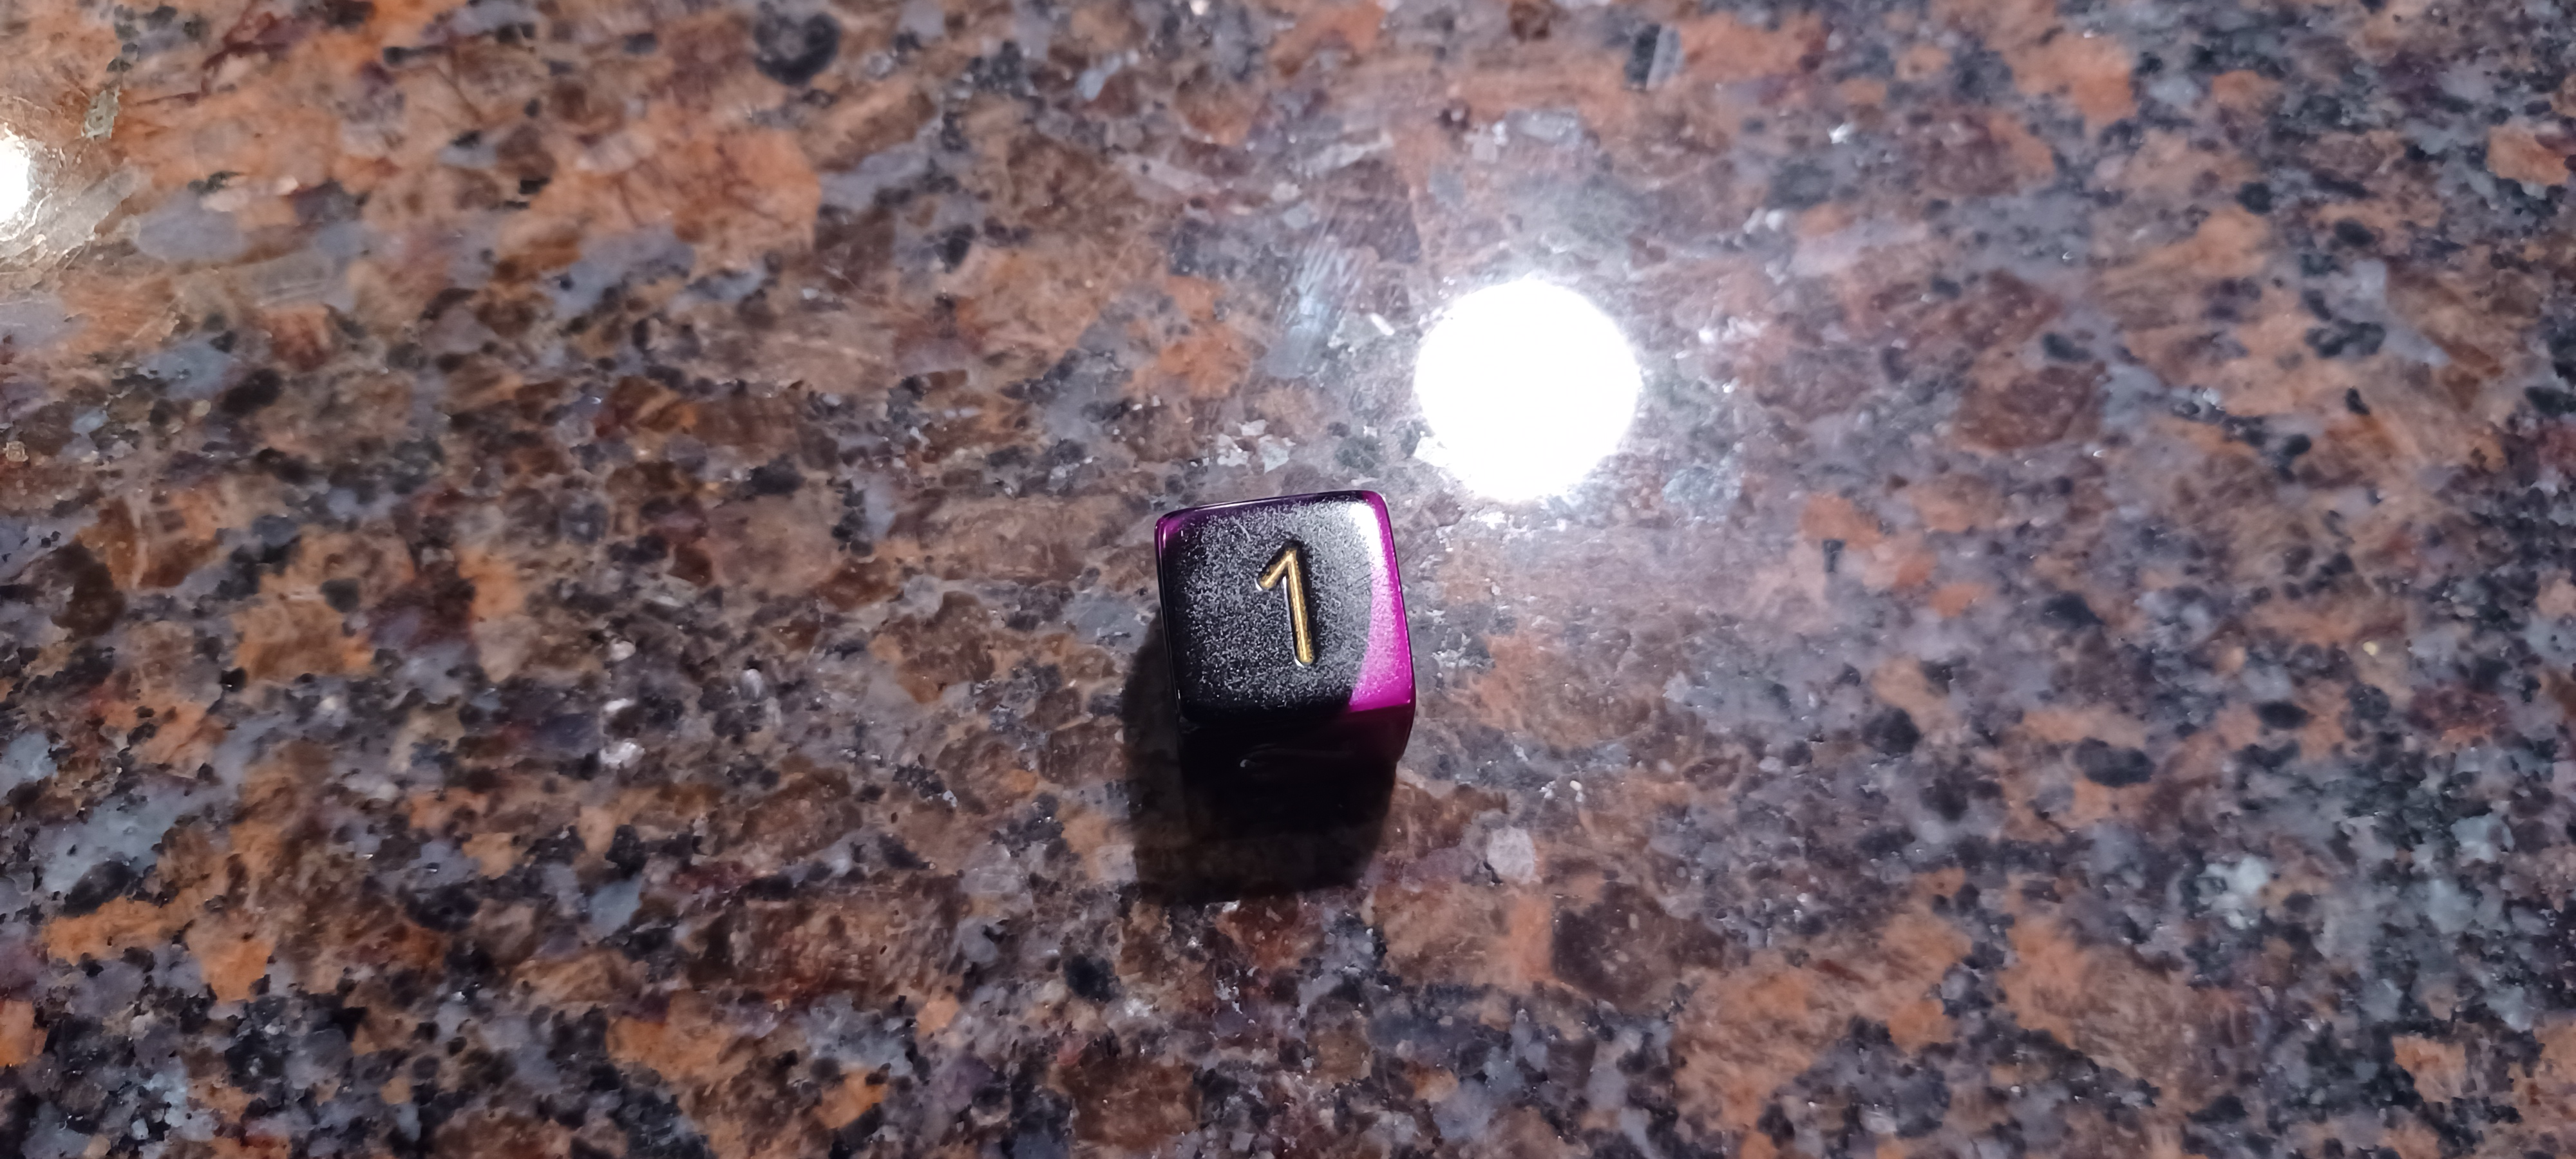one: (1088, 451, 1482, 808)
